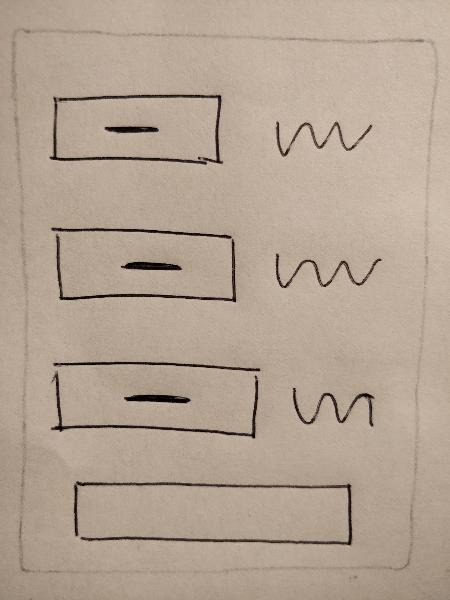button: (47, 356, 267, 450), (46, 222, 243, 315), (43, 90, 236, 177)
text: (264, 248, 385, 298), (265, 114, 376, 161), (285, 382, 383, 433)
text_input: (63, 472, 361, 555)
